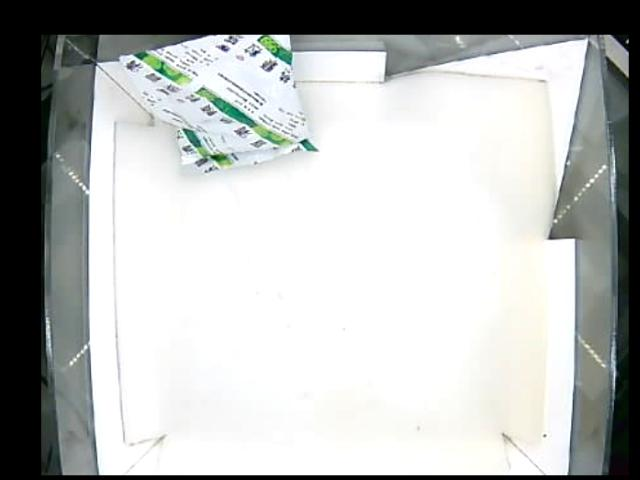Medicine: (116, 35, 318, 181)
